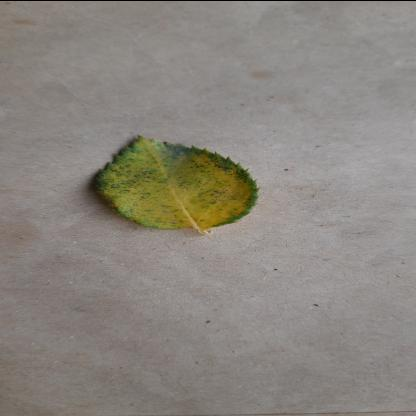black-spot: (91, 134, 261, 232)
